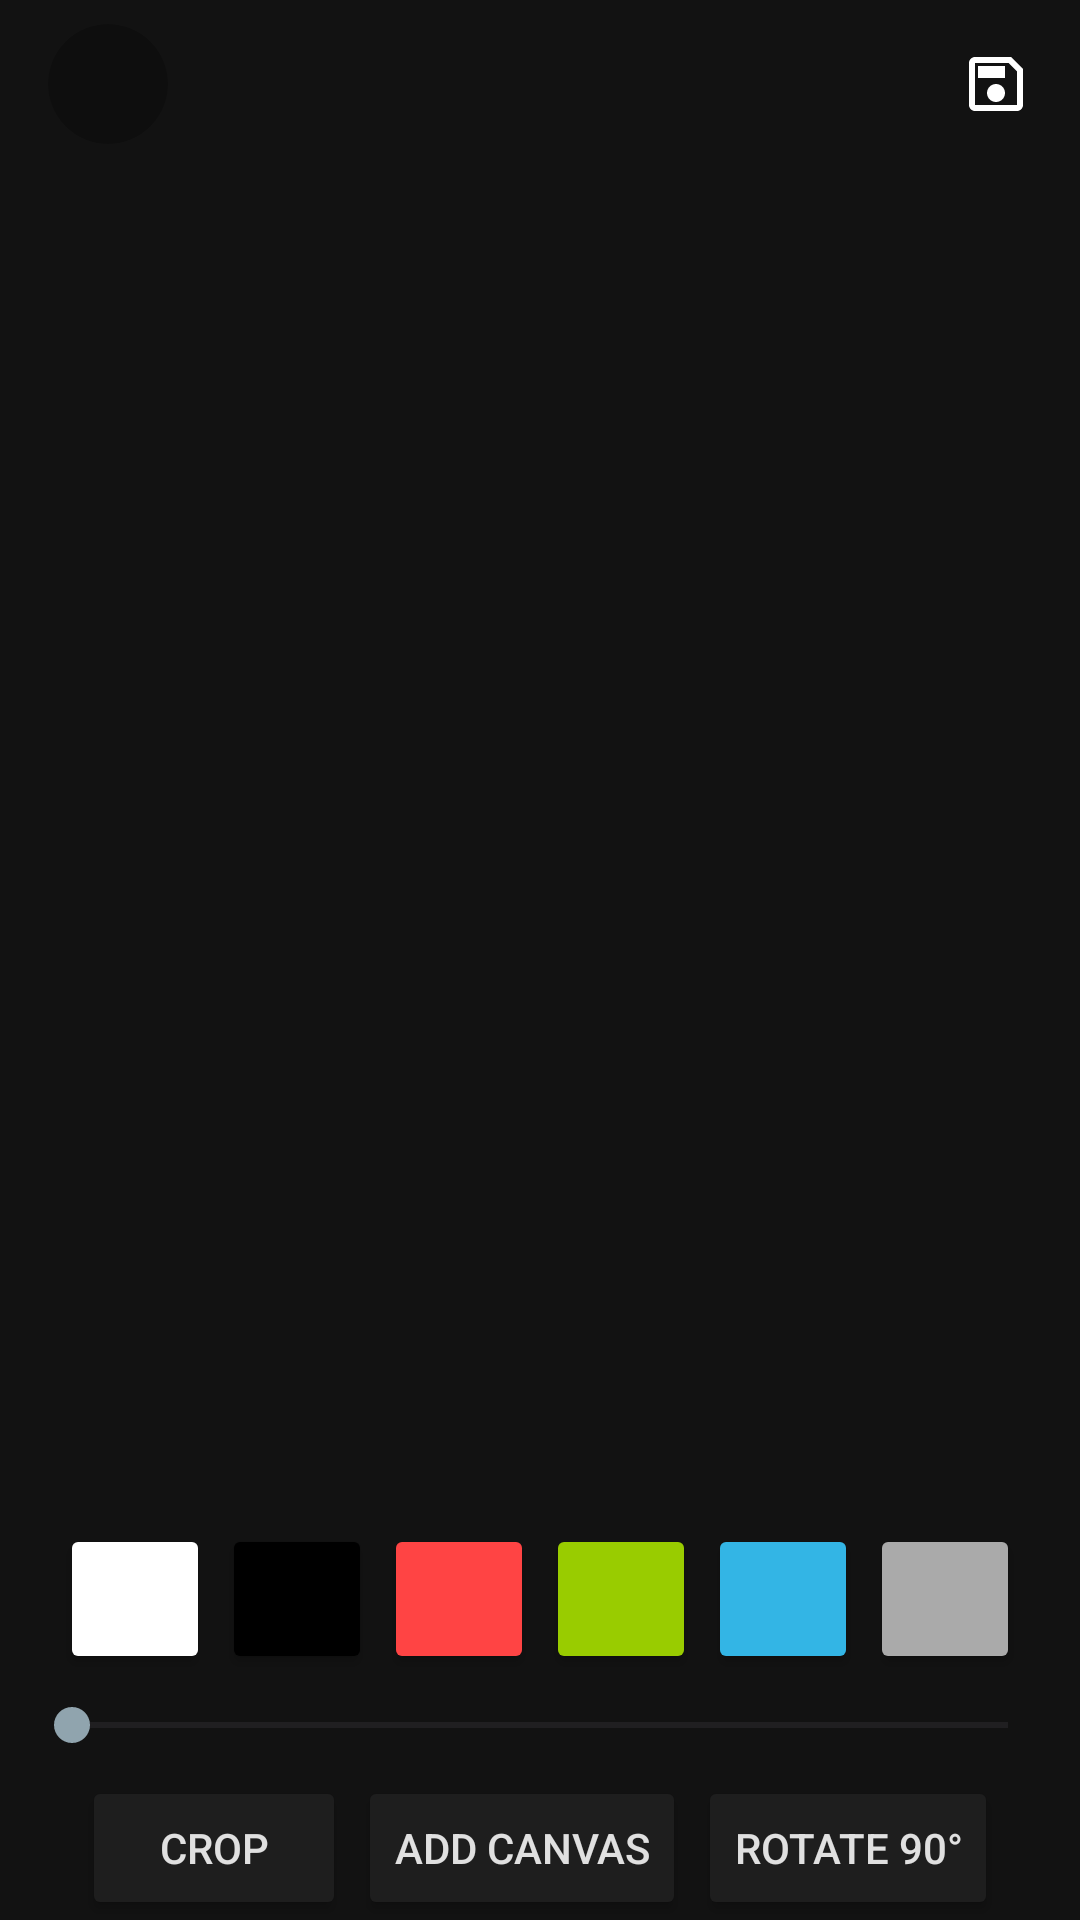

Screen size 1080px×1920px. Icon name, then its box in pixels as (x1, y1, x2, y2):
save: (969, 57, 1023, 111)
